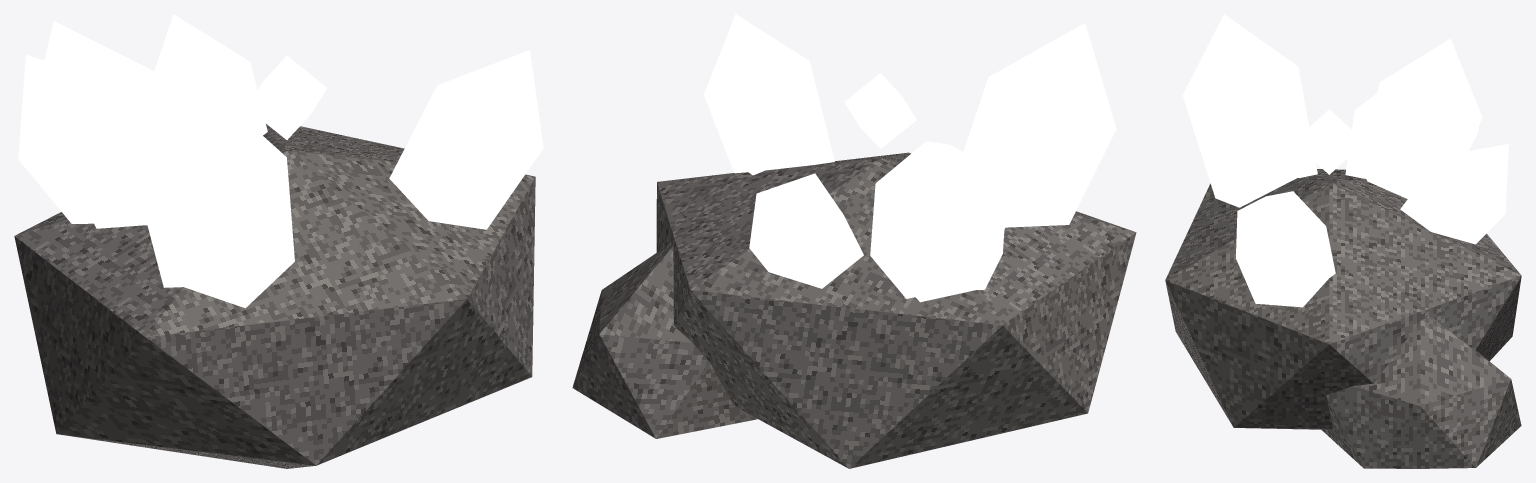
Rendered from starsilver_ore.glb.
The picture shows the model from 3 angles, left to right: view 1: azimuth 30°, elevation 25°; view 2: azimuth 150°, elevation 25°; view 3: azimuth 270°, elevation 25°; orthographic projection. The views are drawn at different scales.
Parts seen in each view (by area): view 1: Body.013; view 2: Body.013; view 3: Body.013.
Boxes of the visible parts, bbox=[...] form: Body.013: bbox=[14, 14, 543, 468]; Body.013: bbox=[572, 14, 1136, 468]; Body.013: bbox=[1165, 14, 1521, 468].
Size of the model in its own units: 0.2377 by 0.2159 by 0.1962.
2 materials, 1 textured.
